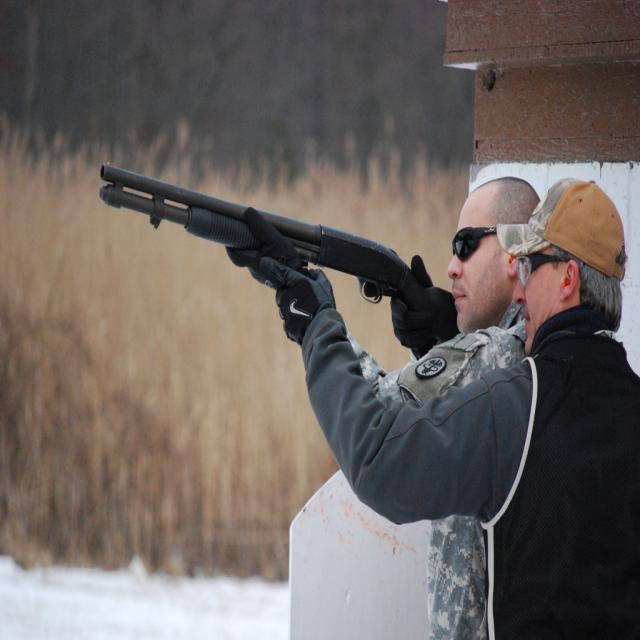weapon: (99, 161, 457, 358)
